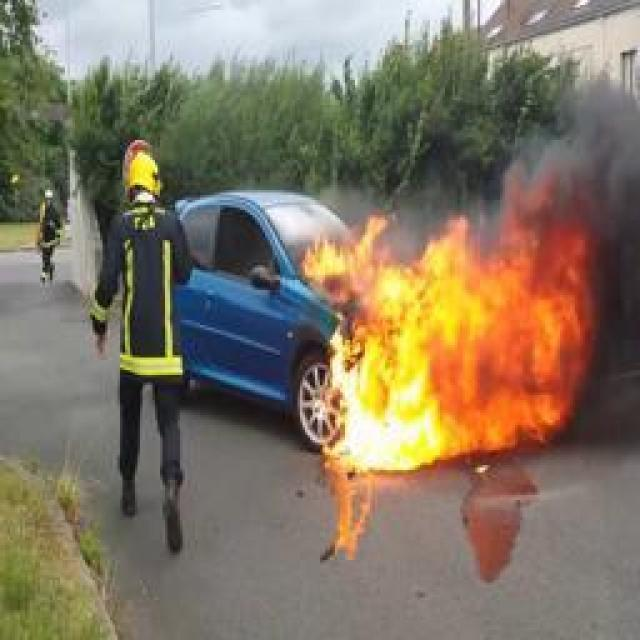Fire: (302, 171, 600, 471)
